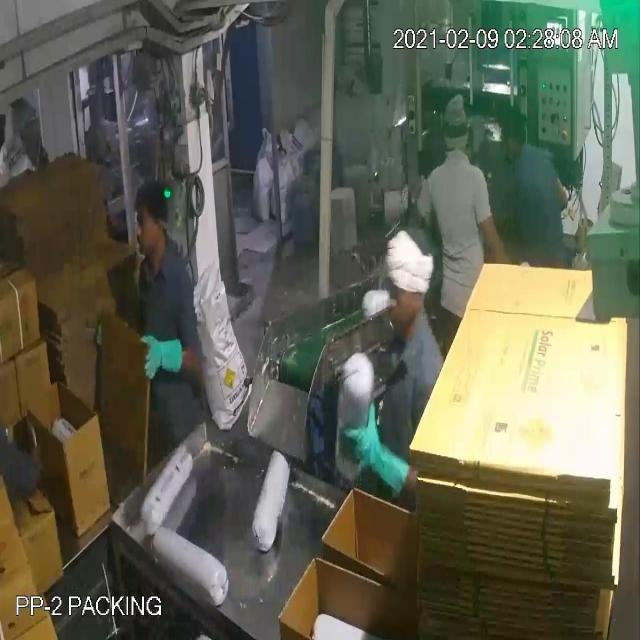Gloves: (50, 60, 501, 450)
